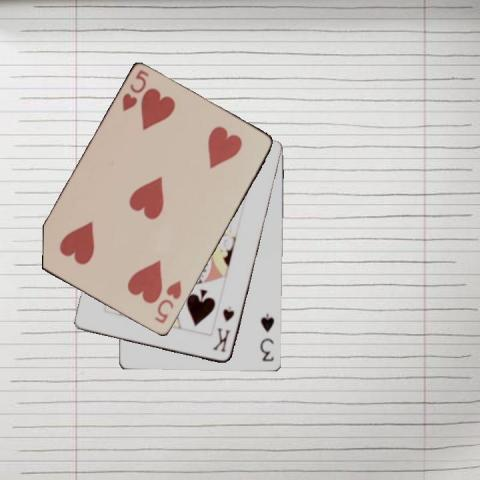3s: (257, 312, 276, 364)
5h: (152, 278, 184, 326), (118, 67, 150, 114)
Ks: (210, 303, 236, 354)
